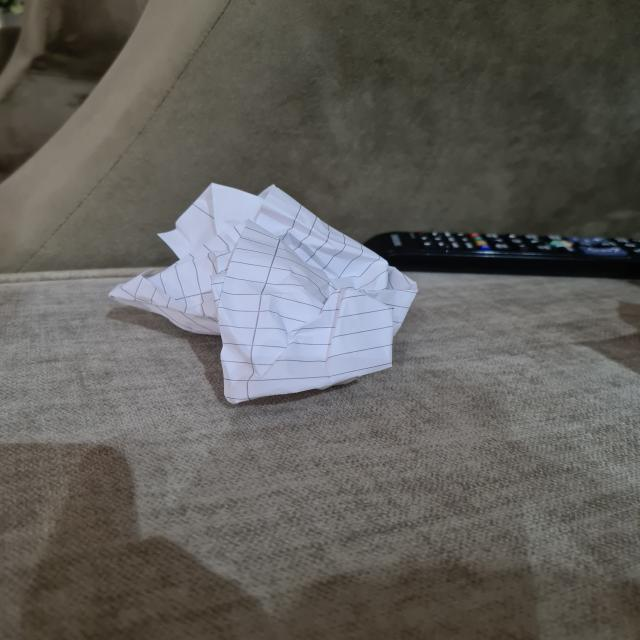Paper: (114, 184, 425, 402)
